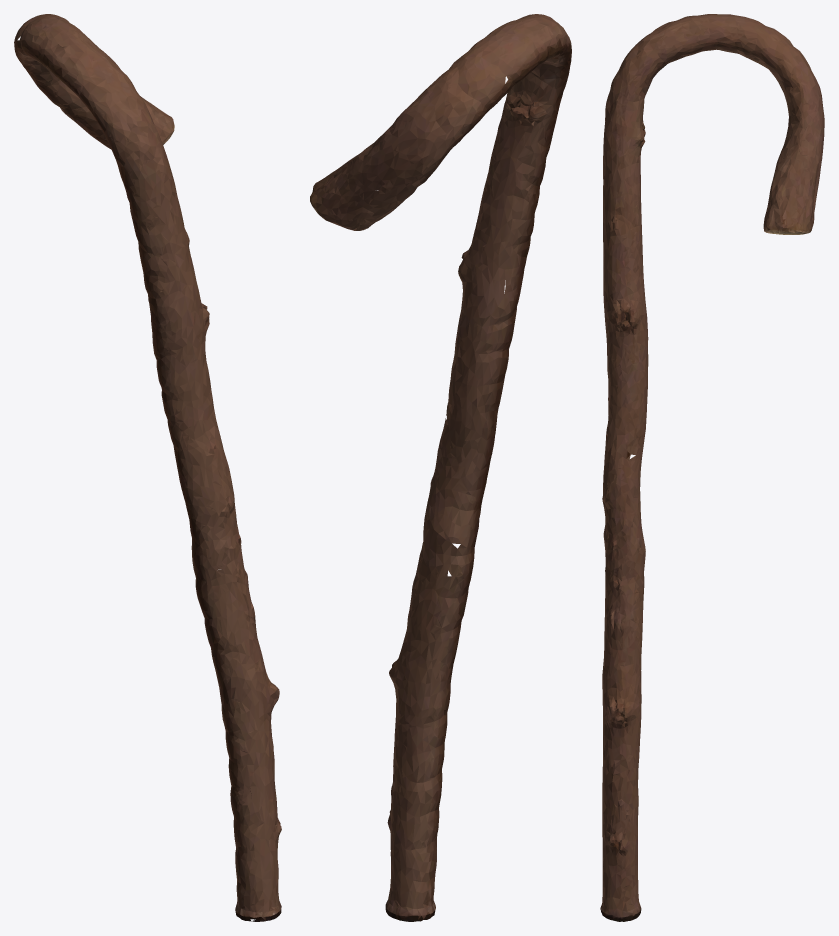
The model's file is canne.glb.
3 views of the same model, side by side, from view 1: azimuth 30°, elevation 25°; view 2: azimuth 150°, elevation 25°; view 3: azimuth 270°, elevation 25° (orthographic). The views are drawn at different scales.
Parts seen in each view (by area): view 1: tripo_node_6de6b6e9-051f-4b01-b1ad-8469db1cbb79; view 2: tripo_node_6de6b6e9-051f-4b01-b1ad-8469db1cbb79; view 3: tripo_node_6de6b6e9-051f-4b01-b1ad-8469db1cbb79.
Boxes of the visible parts, x1,y1,x2,y2 form: tripo_node_6de6b6e9-051f-4b01-b1ad-8469db1cbb79: (14, 14, 281, 921); tripo_node_6de6b6e9-051f-4b01-b1ad-8469db1cbb79: (310, 14, 571, 921); tripo_node_6de6b6e9-051f-4b01-b1ad-8469db1cbb79: (600, 14, 824, 921).
Bounding box in the file's own units: 0.2221 × 0.9792 × 0.2399.
1 material, 1 textured.
